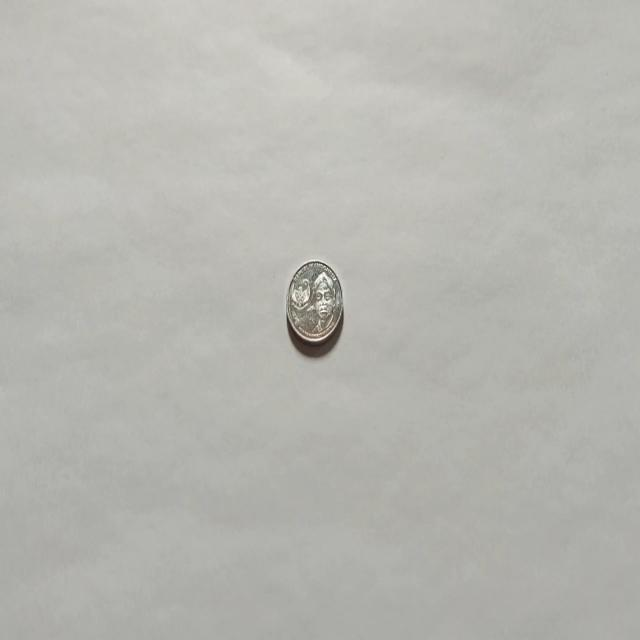dua ratus rupiah: (286, 258, 344, 346)
